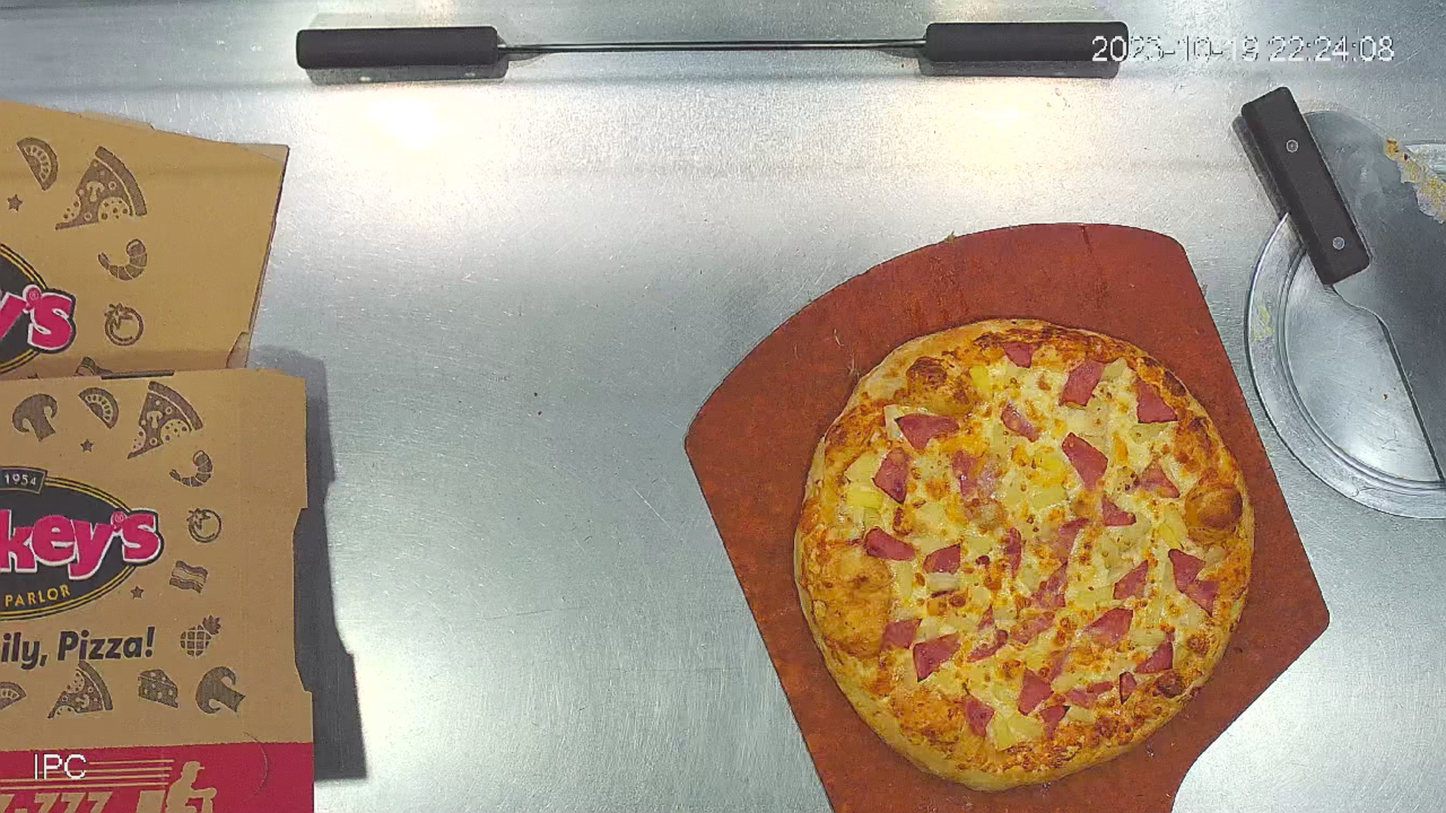hawaiian: (783, 310, 1272, 798)
